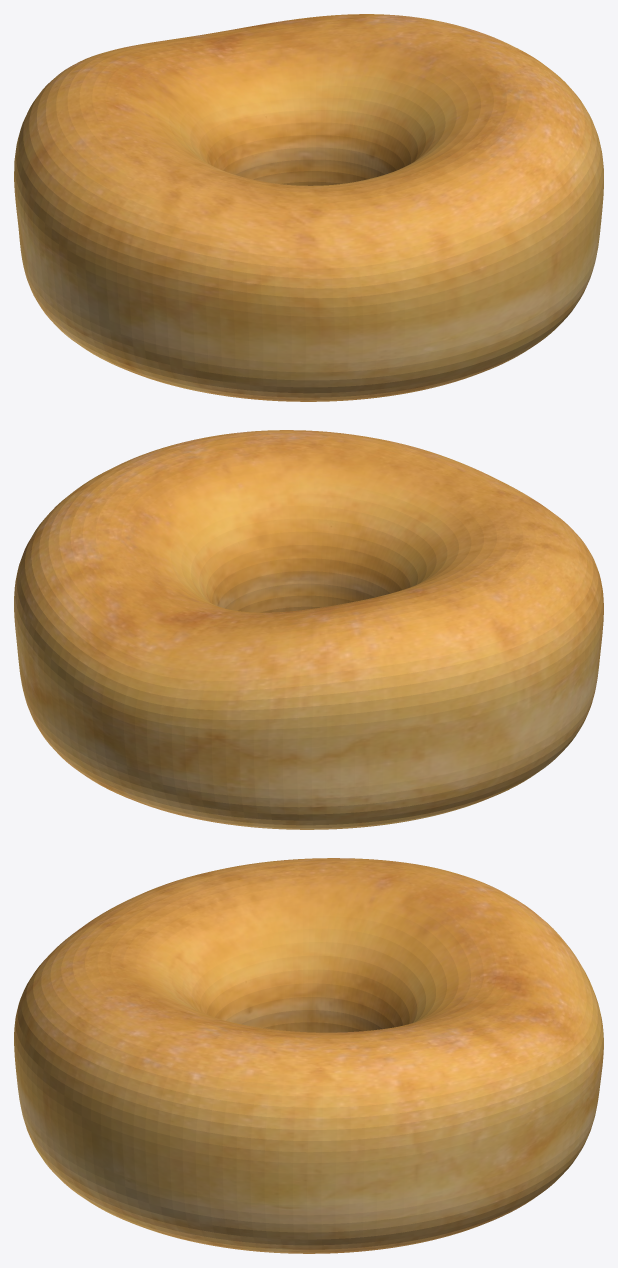
The model's file is donut.glb.
3 views of the same model, one above another, from view 1: azimuth 30°, elevation 25°; view 2: azimuth 150°, elevation 25°; view 3: azimuth 270°, elevation 25° (orthographic).
Parts seen in each view (by area): view 1: Donut2; view 2: Donut2; view 3: Donut2.
Part boxes in pixels (x1=…): Donut2: x1=14, y1=14, x2=603, y2=401; Donut2: x1=14, y1=430, x2=603, y2=829; Donut2: x1=14, y1=858, x2=603, y2=1253.
Bounding box in the file's own units: 0.3111 × 0.1197 × 0.3109.
Materials: 1 (1 with a texture image).
